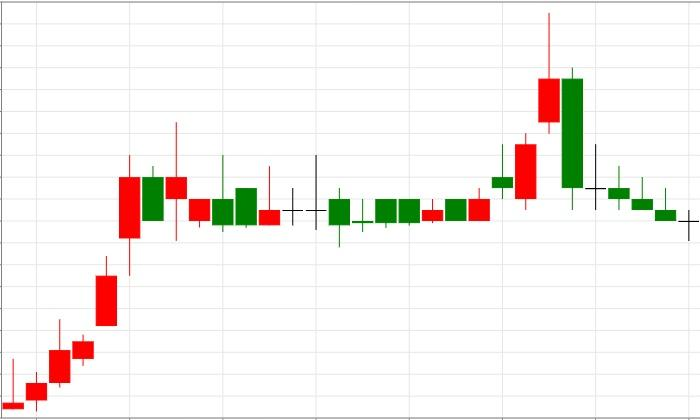shooting_star_fall: (422, 12, 560, 223)
